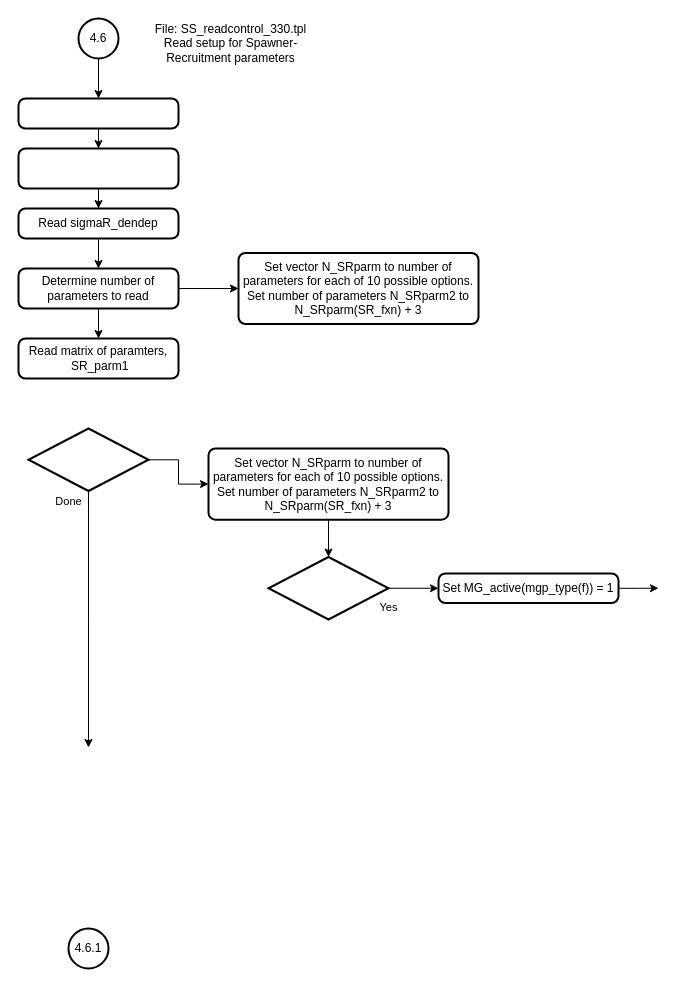
This 684x986 diagram has some shape labels left out. The centre of each missing label's shape, as x and y in pixels:
For each MGparm: point (88, 459)
MGparm_PH(f) > 0?: point (328, 588)
Read function type, SR_fxn: point (98, 113)
Read steepness value, init_equ_steepness: point (98, 168)
